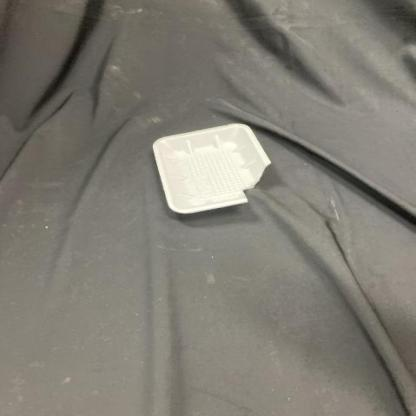Glass Cup: (153, 122, 273, 215), (153, 124, 271, 213)
